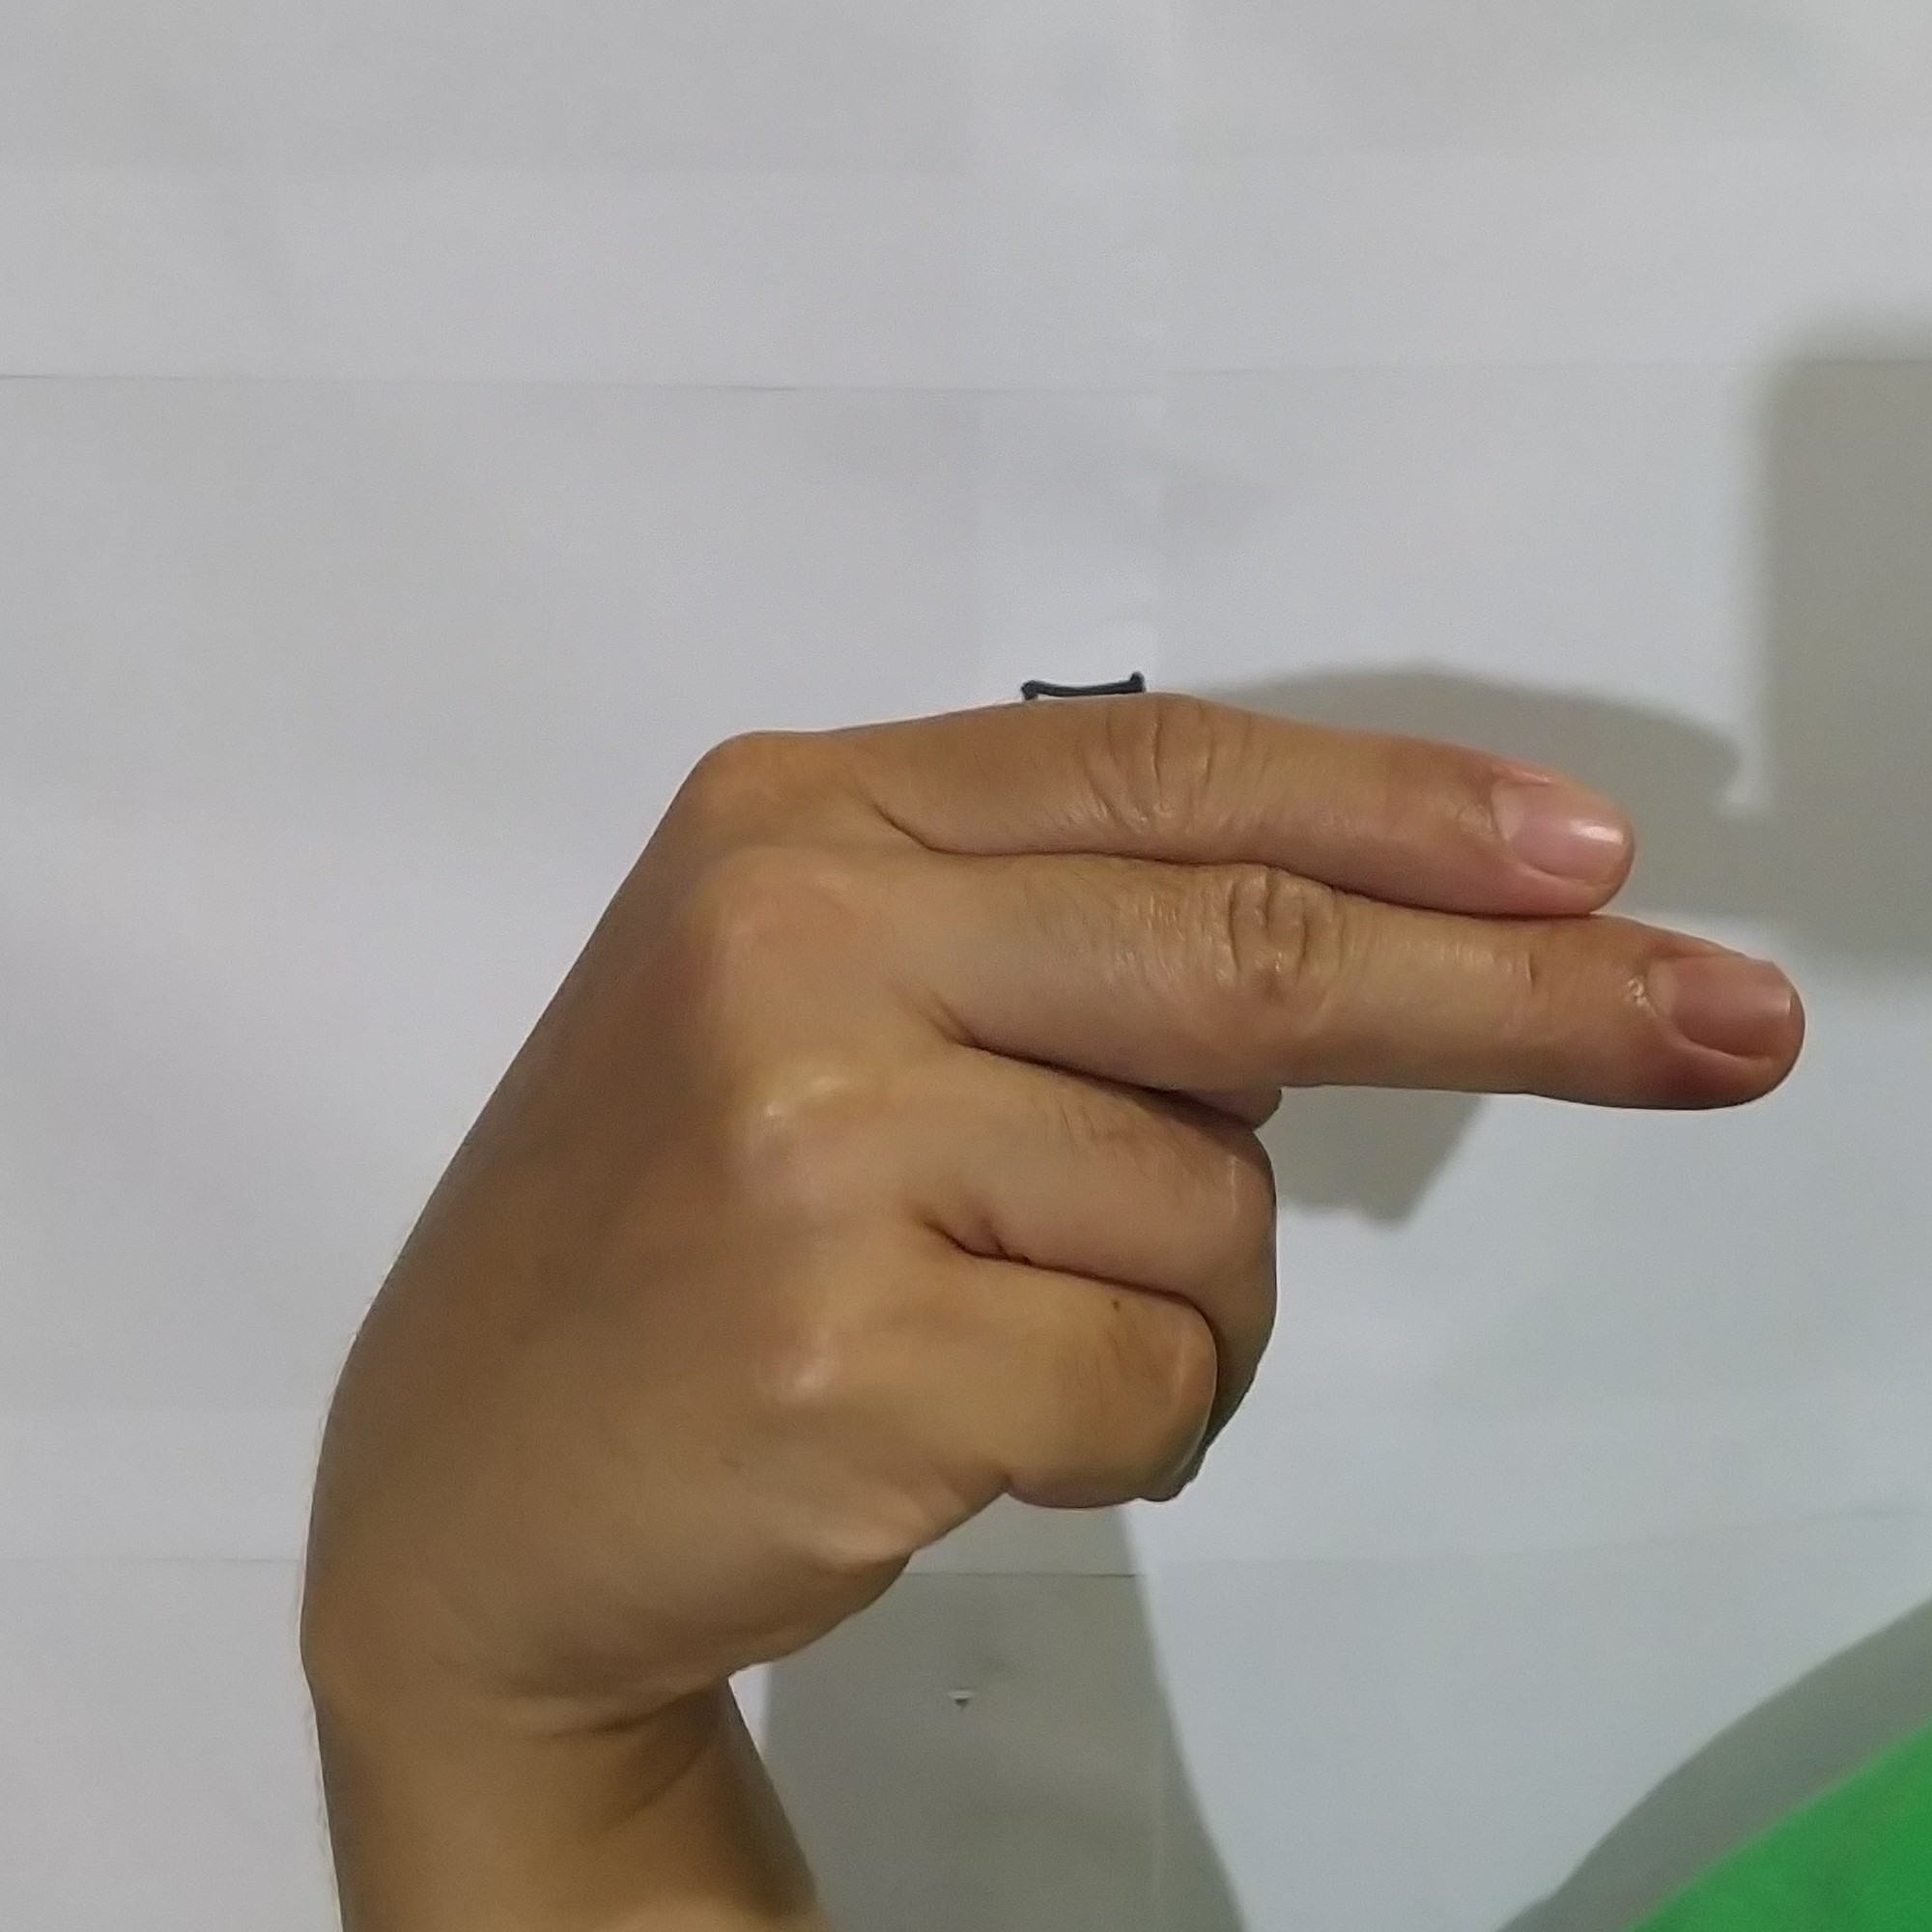H: (297, 656, 1831, 1677)
